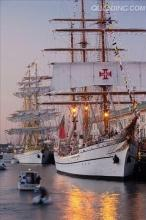fanchuan: (50, 1, 146, 180), (6, 57, 49, 162)
otherboat: (15, 168, 44, 193)
